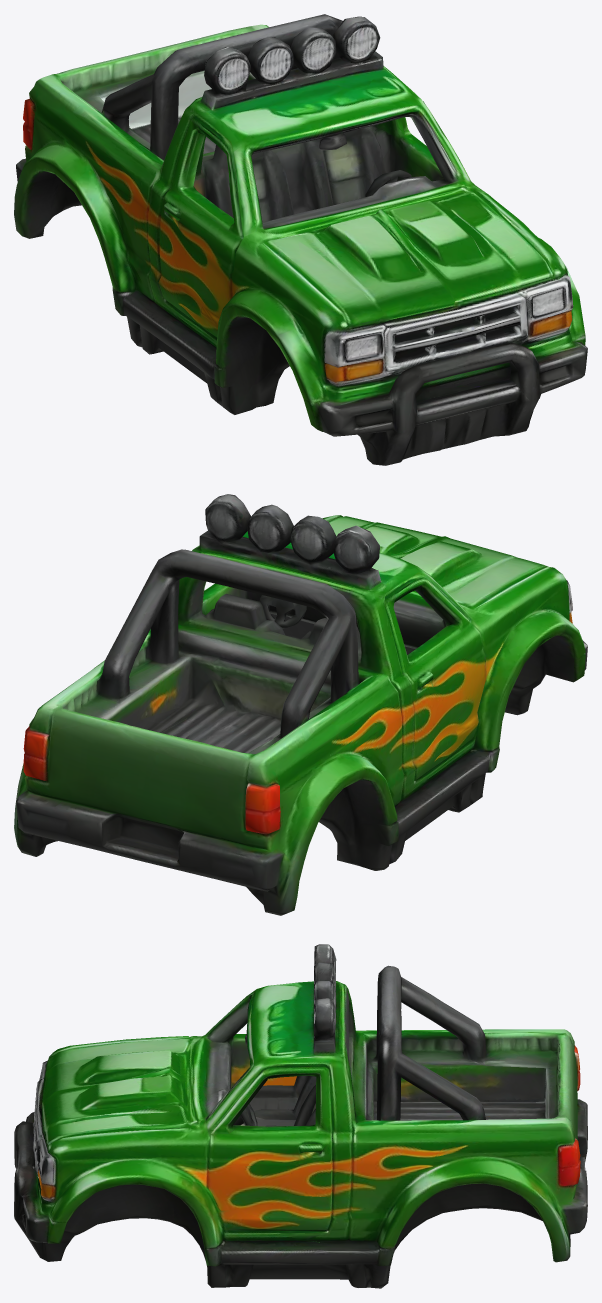
The model's file is car-monster.glb.
3 renders of one model, top to bottom at view 1: azimuth 30°, elevation 25°; view 2: azimuth 150°, elevation 25°; view 3: azimuth 270°, elevation 25°, orthographic. The views are drawn at different scales.
Visible parts, largest first — view 1: tripo_node_f66bcea7-851b-4663-9f72-3e5a2755ca16; view 2: tripo_node_f66bcea7-851b-4663-9f72-3e5a2755ca16; view 3: tripo_node_f66bcea7-851b-4663-9f72-3e5a2755ca16.
Boxes of the visible parts, box(x1,y1,x2,y2) form: tripo_node_f66bcea7-851b-4663-9f72-3e5a2755ca16: box(14, 14, 587, 465); tripo_node_f66bcea7-851b-4663-9f72-3e5a2755ca16: box(14, 494, 587, 915); tripo_node_f66bcea7-851b-4663-9f72-3e5a2755ca16: box(14, 944, 587, 1288).
Bounding box in the file's own units: 0.5059 × 0.507 × 1.
Materials: 1 (1 with a texture image).
